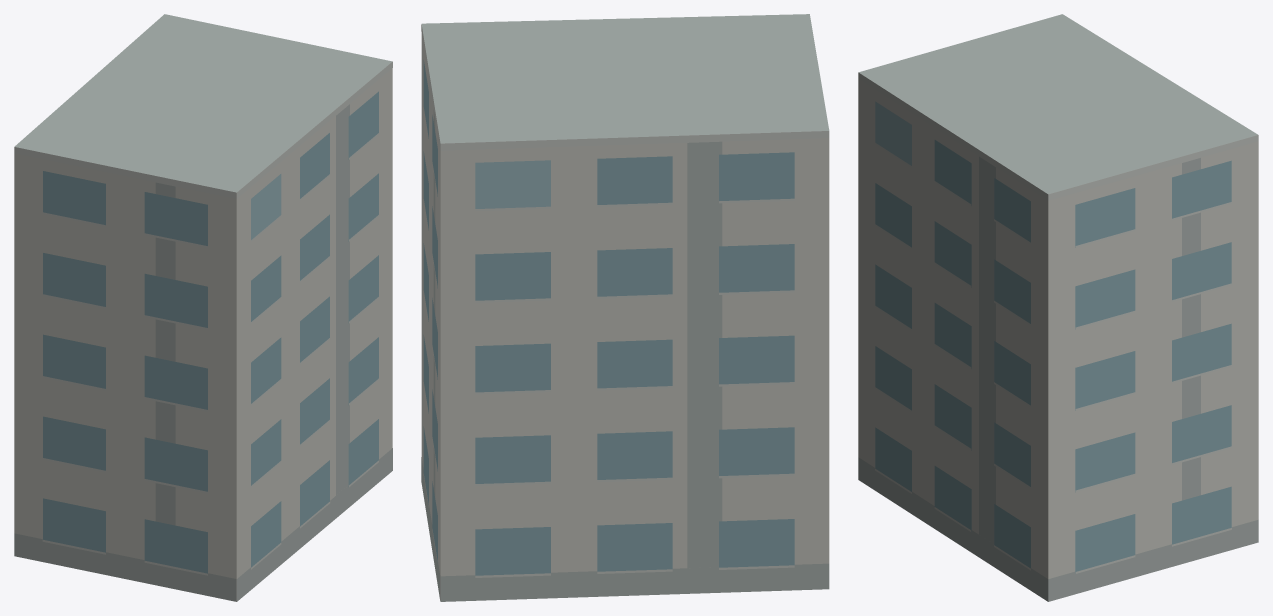
Rendered from survey-upis-32945648.glb.
3 views of the same model, side by side, from view 1: azimuth 30°, elevation 25°; view 2: azimuth 150°, elevation 25°; view 3: azimuth 270°, elevation 25° (orthographic). The views are drawn at different scales.
Visible parts, largest first — view 1: survey-upis-32945648.tmp; view 2: survey-upis-32945648.tmp; view 3: survey-upis-32945648.tmp.
Part boxes in pixels (x1,y1,x2,y2): survey-upis-32945648.tmp: [14, 14, 392, 601]; survey-upis-32945648.tmp: [421, 14, 829, 601]; survey-upis-32945648.tmp: [858, 14, 1258, 601].
Size of the model in its own units: 14.44 by 15.2 by 13.54.
